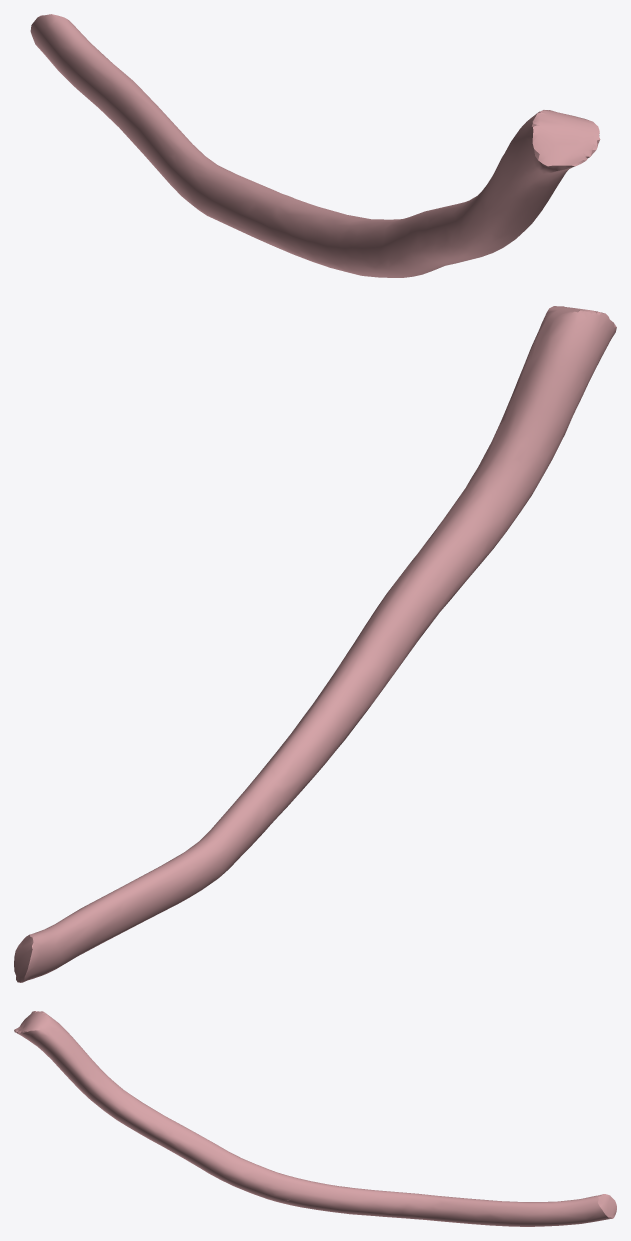
File: fma78465-l_mm3064.glb
3 views of the same model, one above another, from view 1: azimuth 30°, elevation 25°; view 2: azimuth 150°, elevation 25°; view 3: azimuth 270°, elevation 25° (orthographic). The views are drawn at different scales.
Visible parts, largest first — view 1: FMA78465-L_MM3064; view 2: FMA78465-L_MM3064; view 3: FMA78465-L_MM3064.
Part boxes in pixels (<box>): FMA78465-L_MM3064: <box>30,14,600,277</box>; FMA78465-L_MM3064: <box>14,306,616,982</box>; FMA78465-L_MM3064: <box>14,1011,616,1226</box>.
Bounding box in the file's own units: 0.00268 × 0.00875 × 0.0243.
